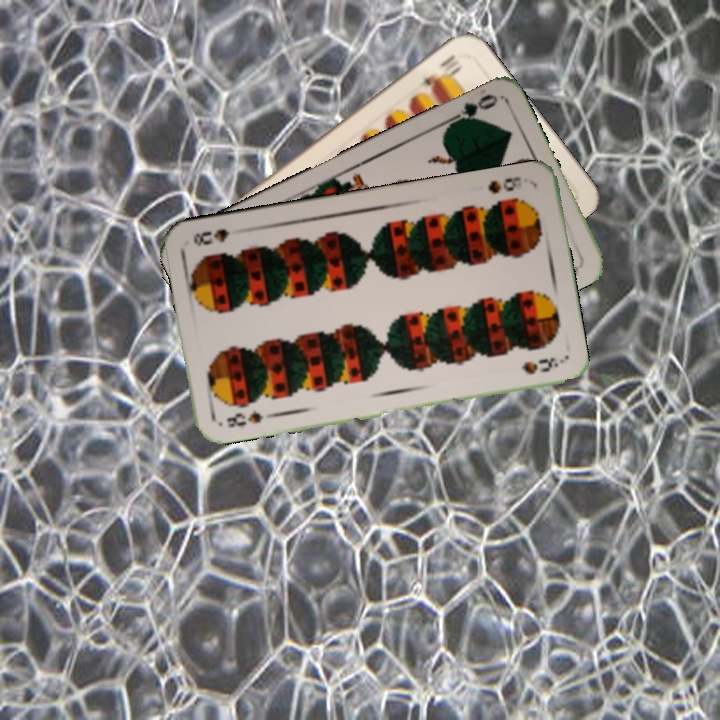E10: (419, 50, 463, 91)
GO: (443, 90, 500, 130)
S8: (222, 406, 266, 431), (484, 172, 525, 197)
